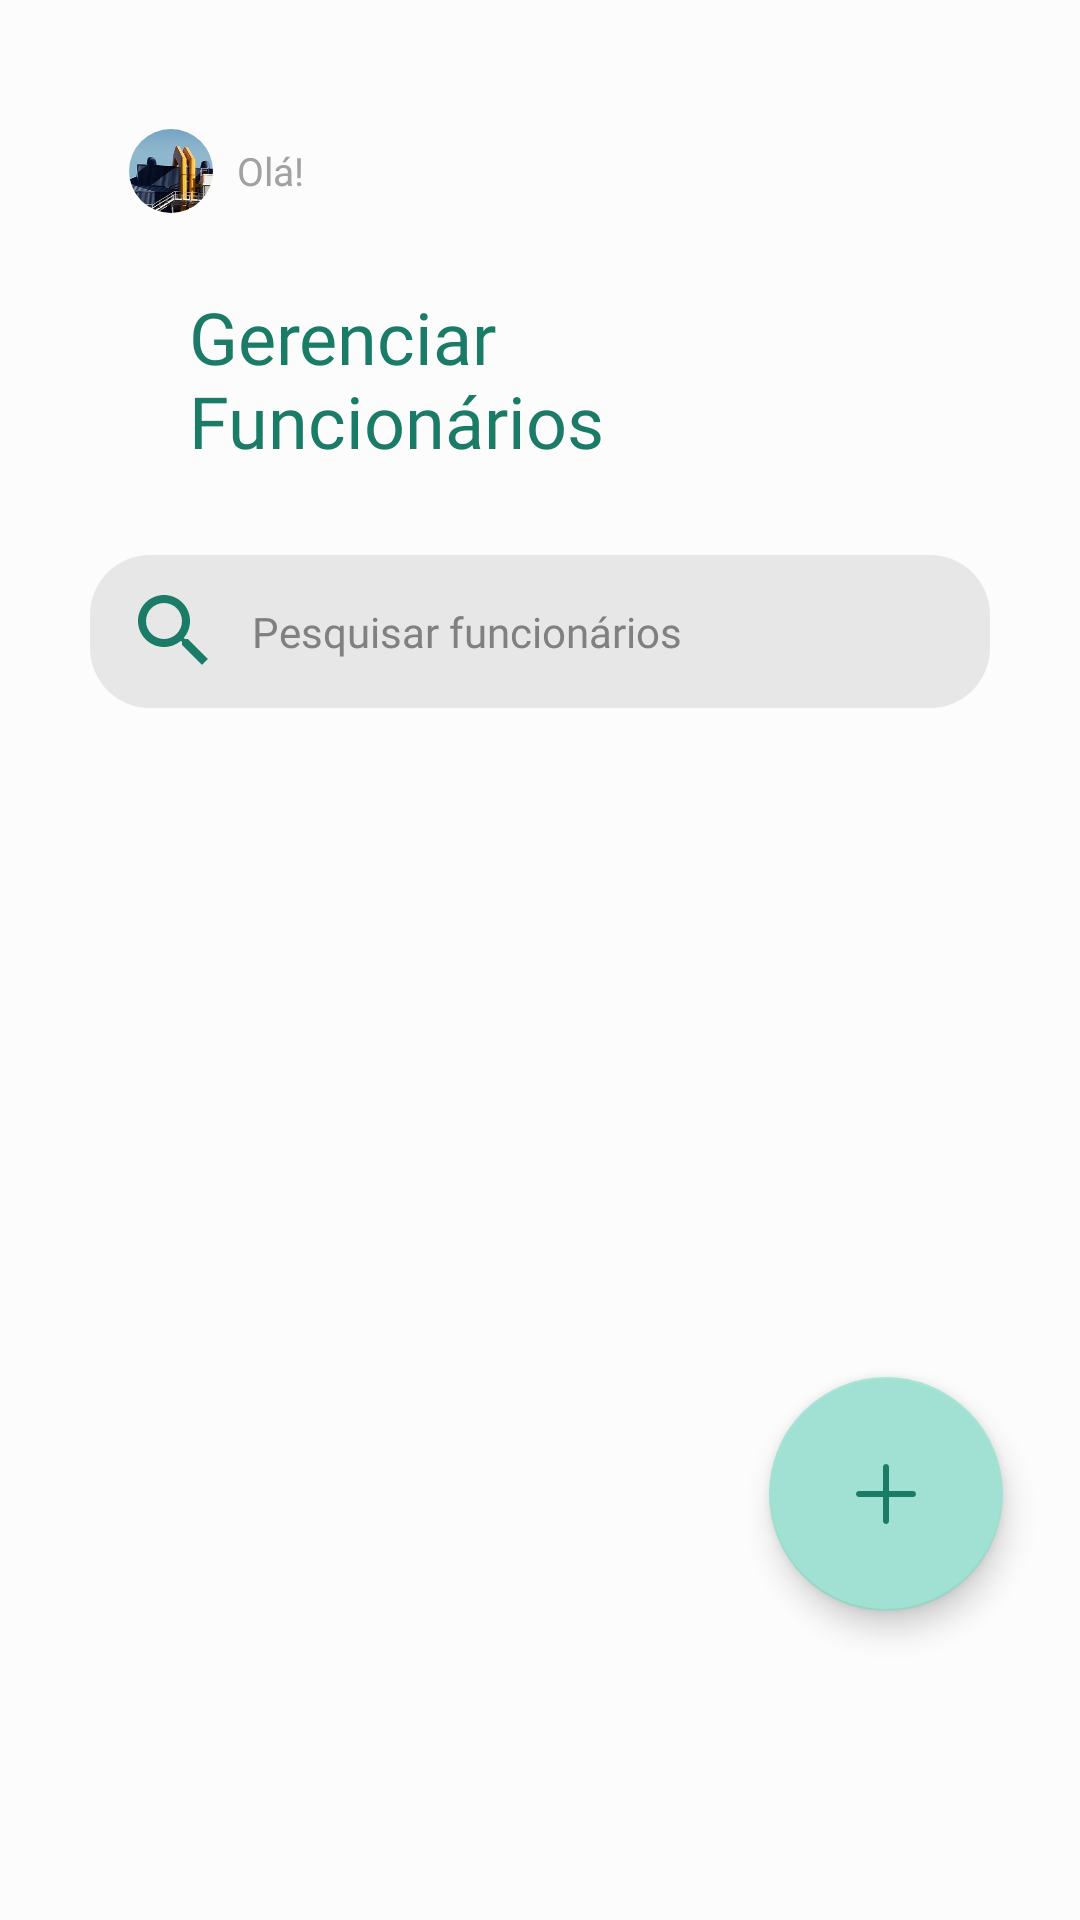

Icon click points for this 1080px x 1920px phone screenshot, format [x,y]:
Adicionar funcionário: [886,1494]
fotoperfil: [171,171]
